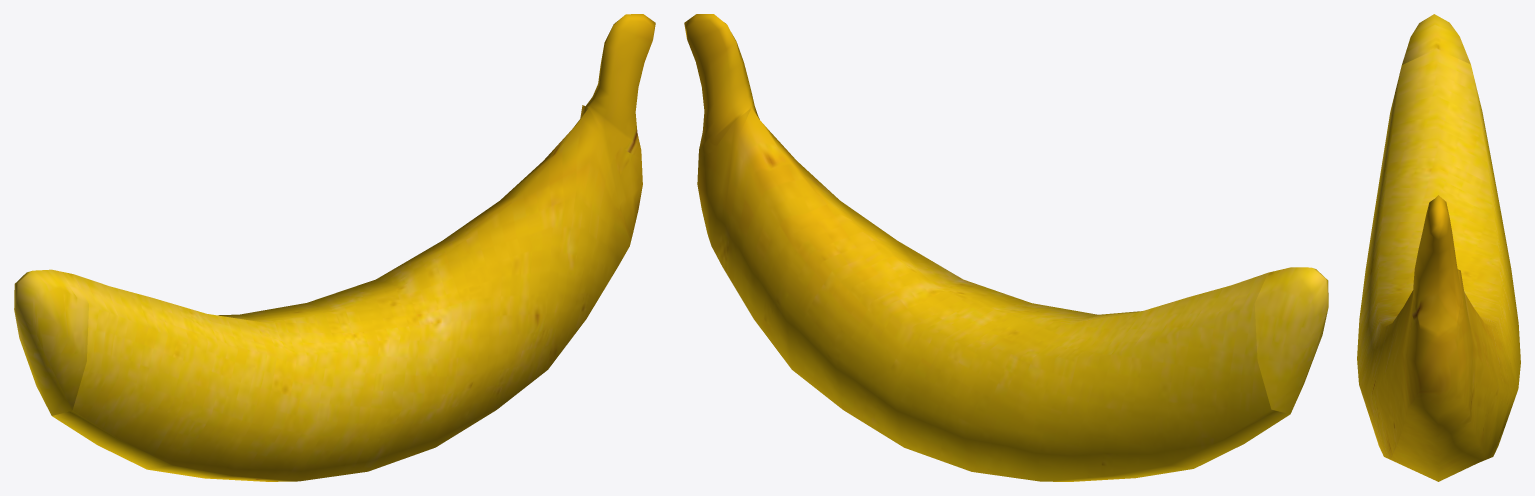
Rendered from banana.fbx.
3 views of the same model, side by side, from view 1: azimuth 30°, elevation 25°; view 2: azimuth 150°, elevation 25°; view 3: azimuth 270°, elevation 25° (orthographic).
Parts seen in each view (by area): view 1: pCube2; view 2: pCube2; view 3: pCube2.
Part boxes in pixels (box(x1,y1,x2,y2)): pCube2: box(14, 14, 655, 481); pCube2: box(684, 14, 1328, 481); pCube2: box(1357, 14, 1520, 481).
Bounding box in the file's own units: 14.88 × 8.57 × 3.29.
1 material, 1 textured.
